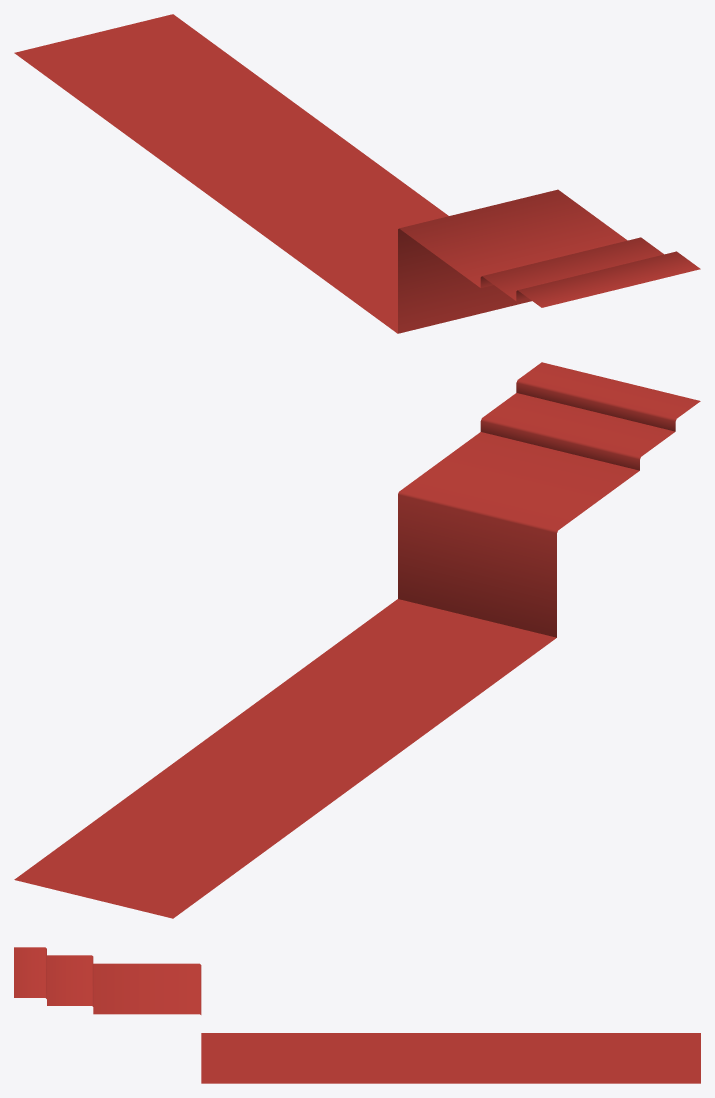
File: Carpet.fbx
3 views of the same model, one above another, from view 1: azimuth 30°, elevation 25°; view 2: azimuth 150°, elevation 25°; view 3: azimuth 270°, elevation 25° (orthographic). The views are drawn at different scales.
Parts seen in each view (by area): view 1: Plane.006, Plane.003; view 2: Plane.006, Plane.003; view 3: Plane.006, Plane.003.
Boxes of the visible parts, box(x1,y1,x2,y2) form: Plane.006: box(14, 14, 448, 333); Plane.003: box(398, 189, 700, 333); Plane.006: box(14, 599, 556, 918); Plane.003: box(398, 362, 700, 637); Plane.006: box(201, 1033, 700, 1083); Plane.003: box(14, 947, 201, 1014).
Bounding box in the file's own units: 2.79 × 2.2 × 16.02.
